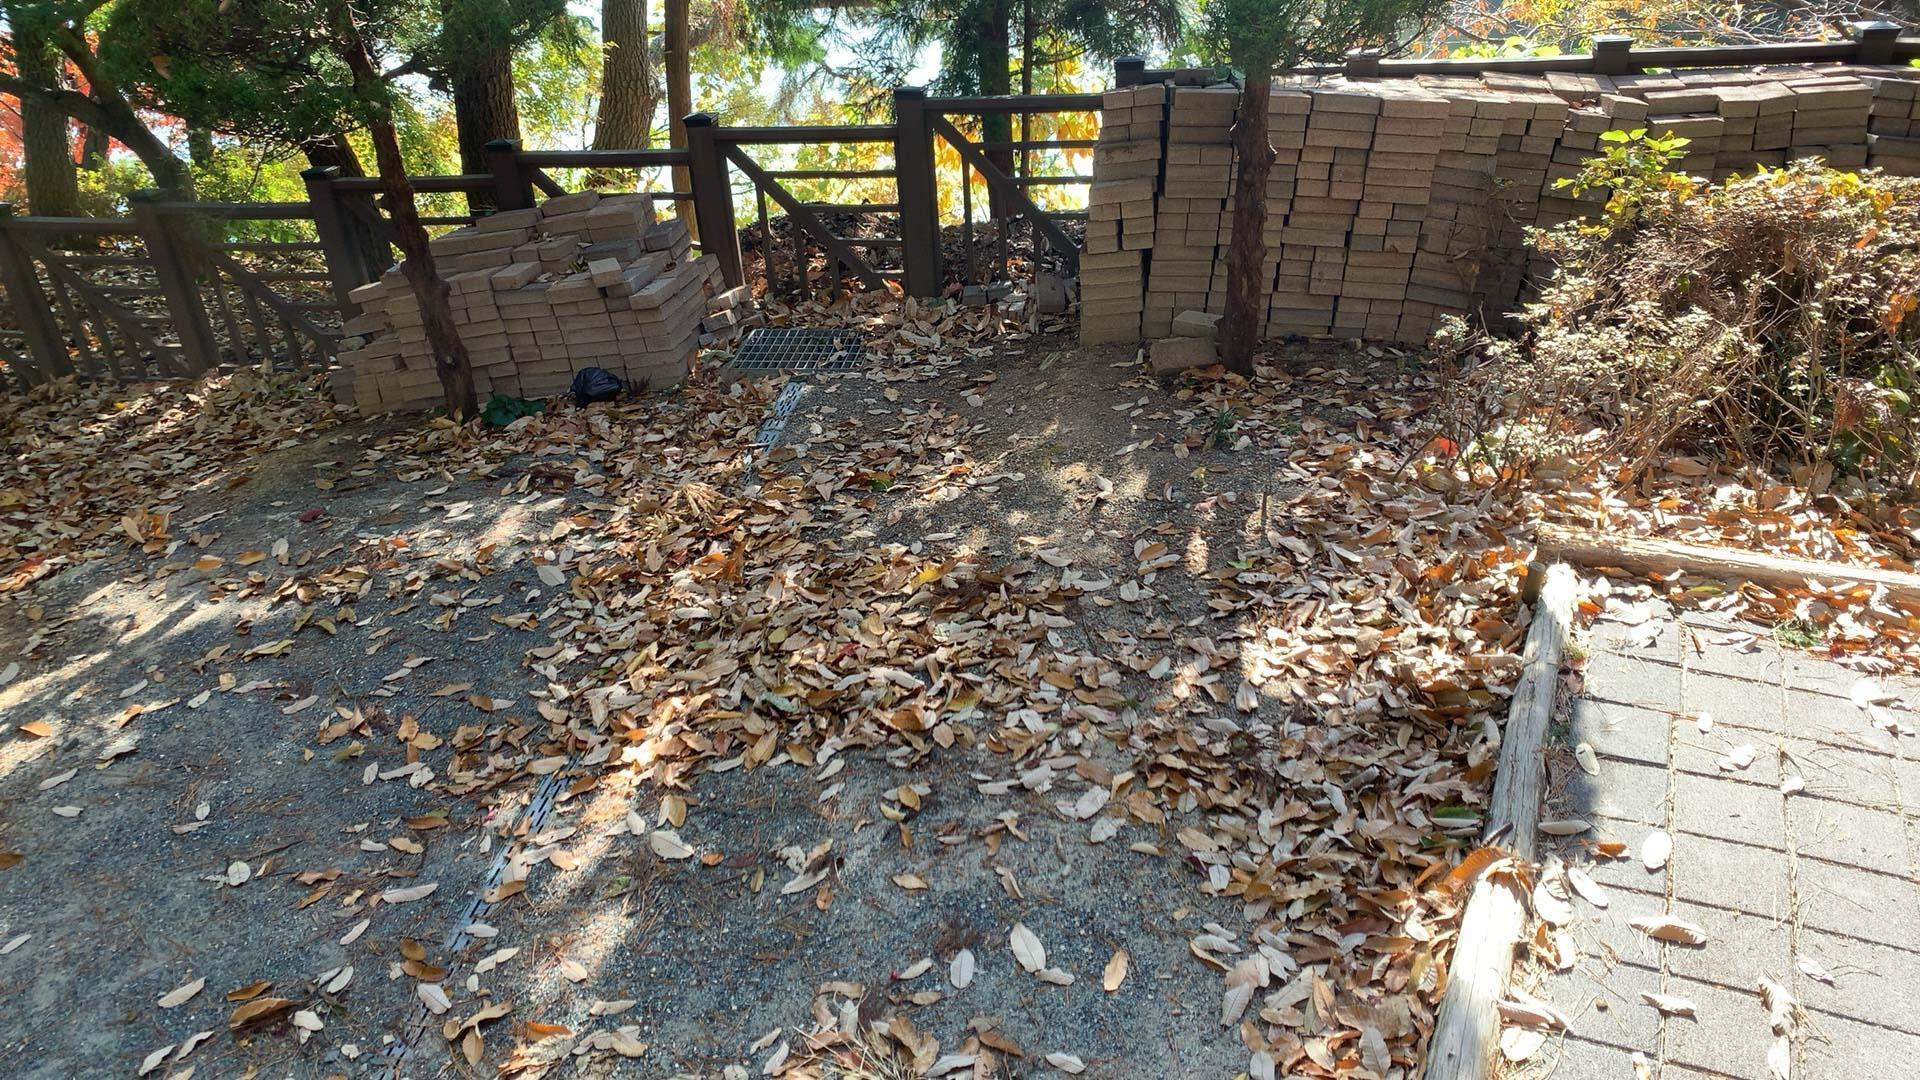black_bag: (564, 363, 626, 406)
